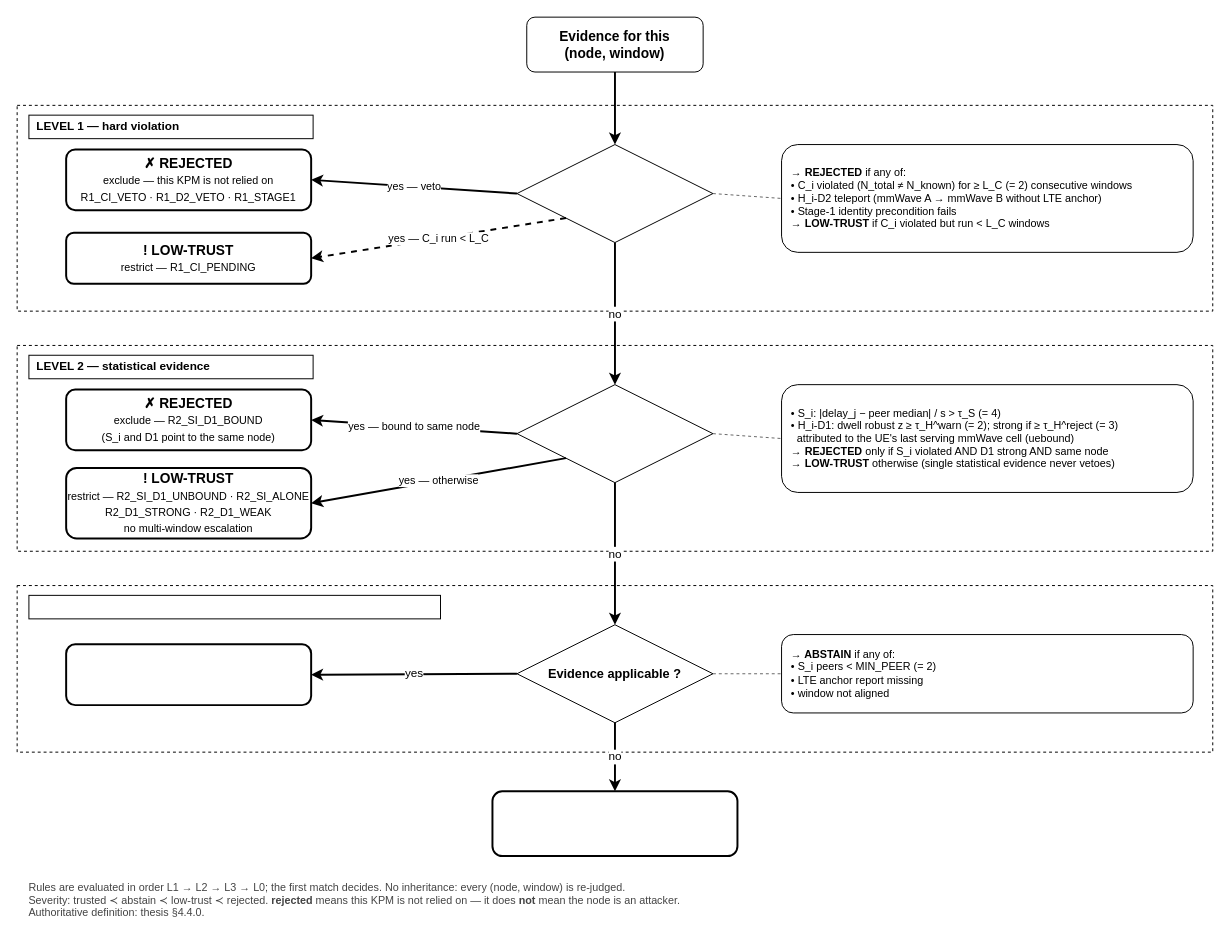
Some shapes in this 1230 by 951 pixel diagram are drawn without their labels. Here are the shapes that lost their labels. From the top down, the centre of each, then its label:
At point 614,193: "Hard violation ?".
At point 614,433: "Statistical evidence ?".
At point 234,606: "LEVEL 3 — evidence availability (checked LAST, not first)".
At point 188,674: "✓ TRUSTED allow — R0_CLEAN no counterexample found (not proven true)".
At point 614,823: "? ABSTAIN defer — R3_ABSTAIN never treated as trusted (fail-closed)".
